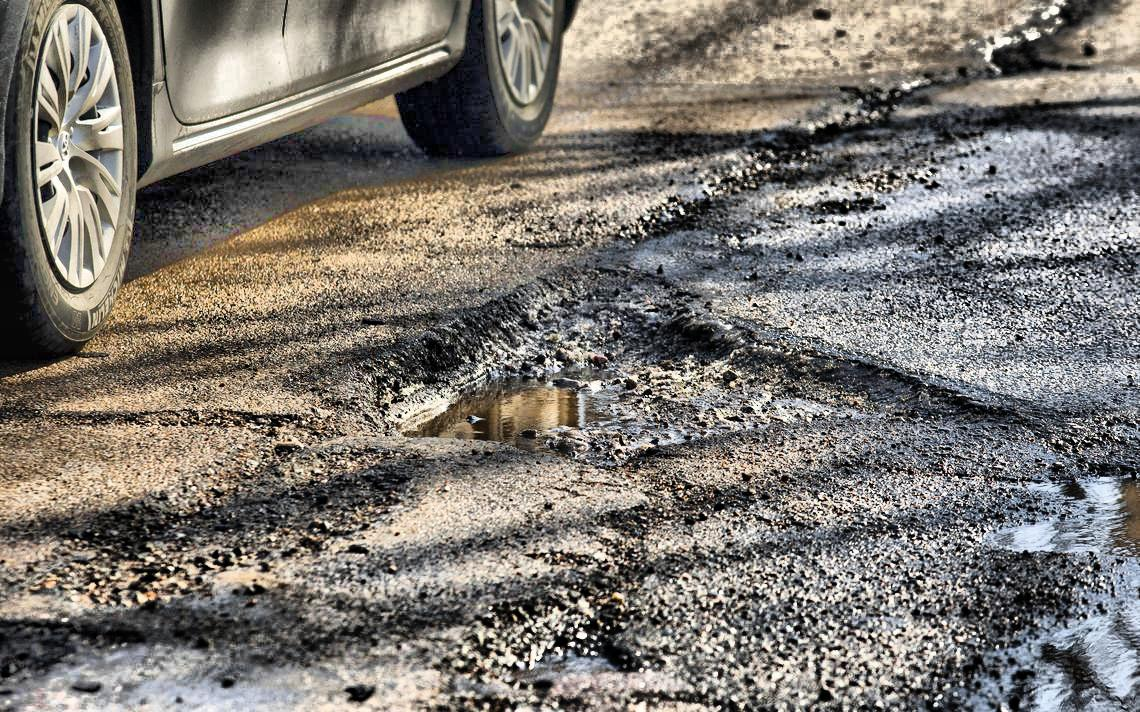pothole: (374, 273, 754, 454)
